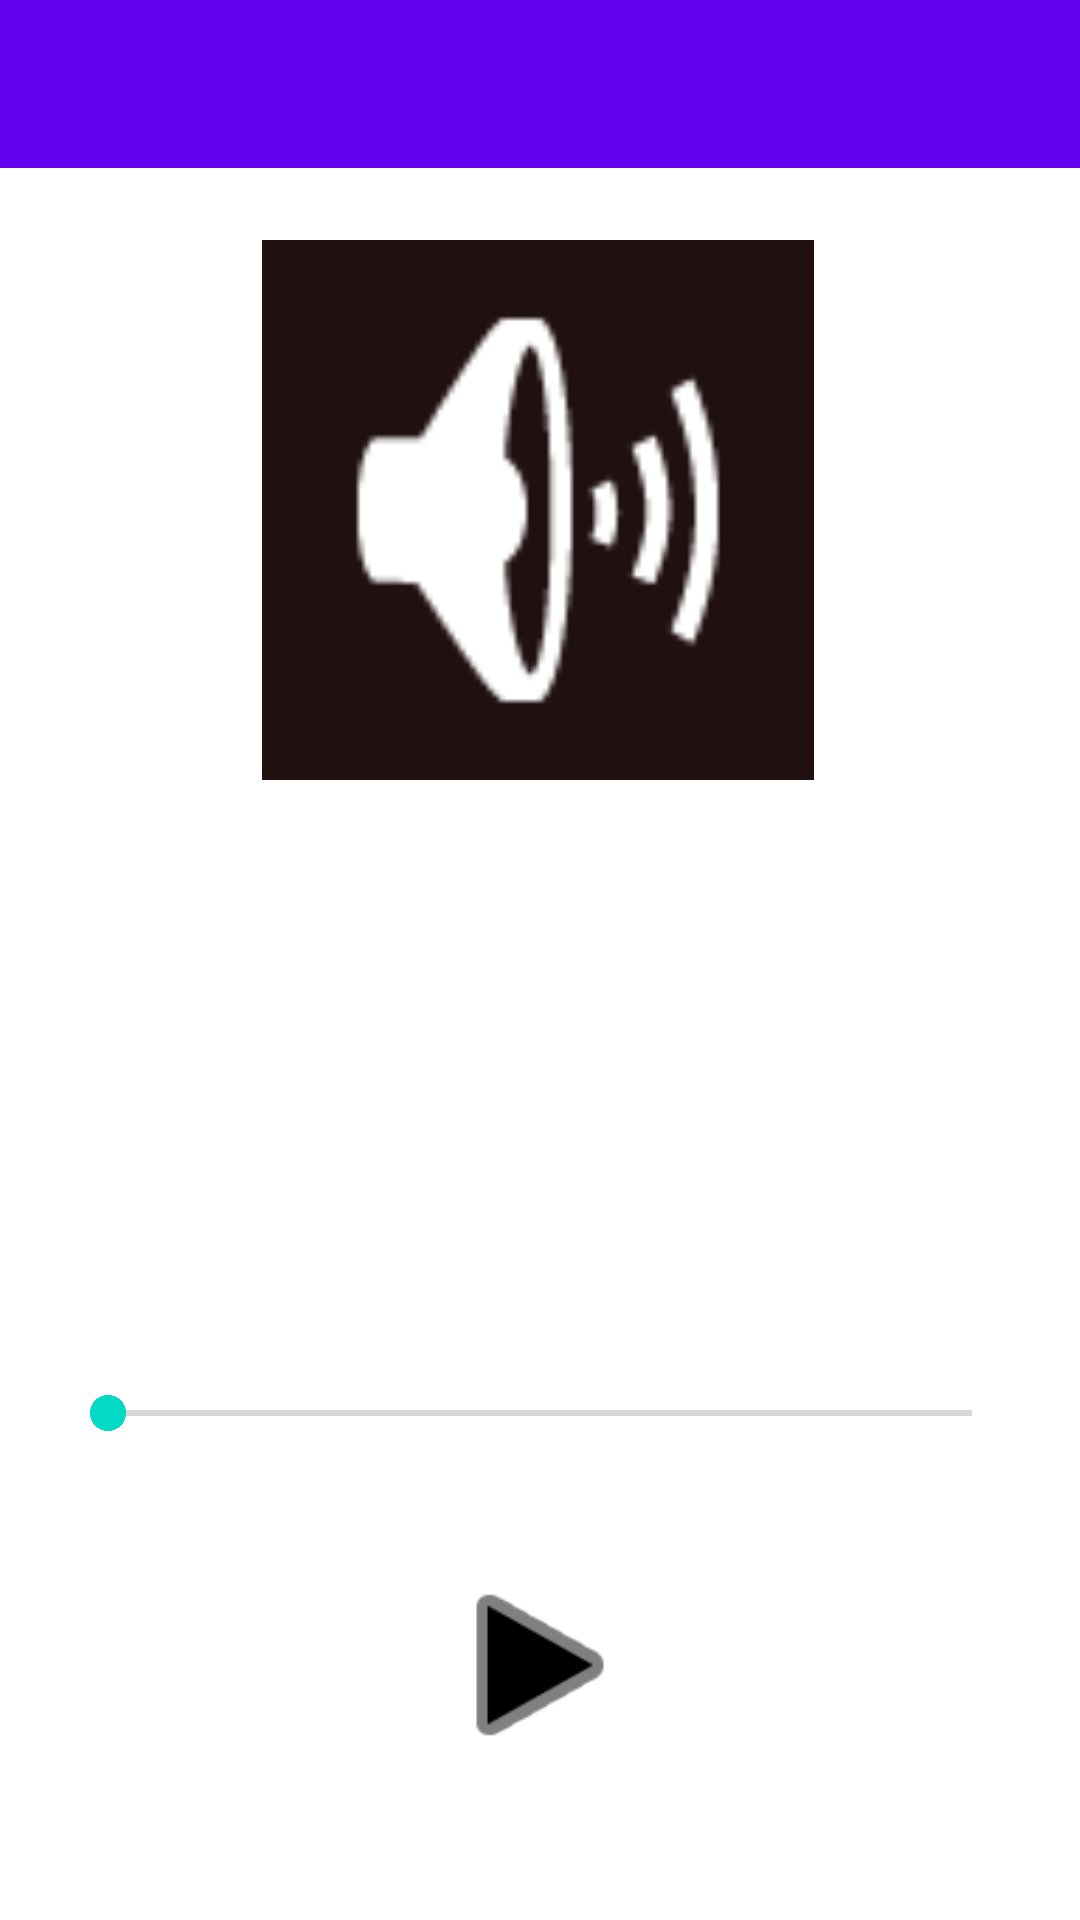

Icon bounding boxes for this 1080px x 1920px phone screenshot, format (x1, y1, x2, y2):
play: (476, 1594, 604, 1736)
